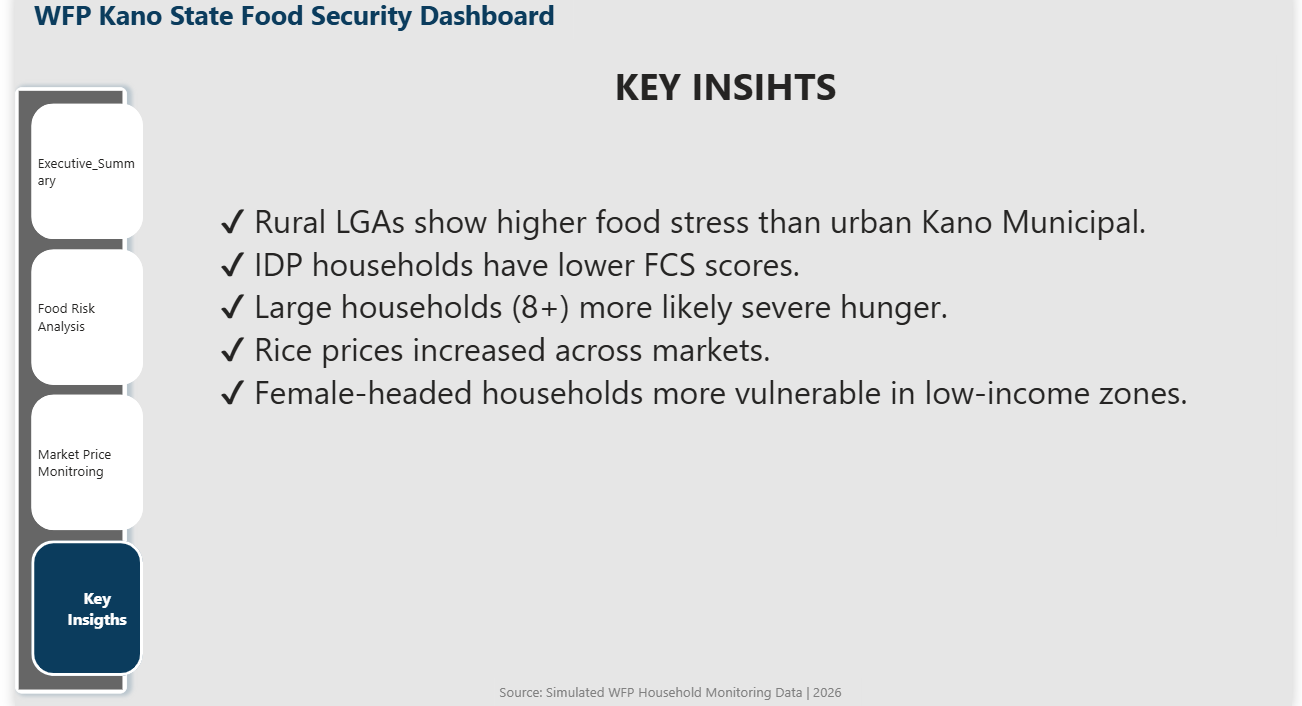

What the dashboard file says about the page in this screenshot:
{"tool":"powerbi","page":{"name":"Key Insigths","canvas":[1280,720],"ordinal":3},"visuals":[{"type":"textbox","box":[160,64,1104,560],"z":0},{"type":"textbox","box":[480,688,368,32],"z":1000},{"type":"textbox","box":[0,0,560,48],"z":2000},{"type":"shape","box":[0,96,112,608],"z":2001},{"type":"pageNavigator","box":[16,112,112,576],"z":2002}]}

Visuals, with their boxes on the page's 1280x720 design canvas (x1, y1, x2, y2). These are canvas units, not pixel positions in the 1302x706 screenshot, which may show the page scaled, cropped or inside an application window:
textbox: Rect(160, 64, 1264, 624)
textbox: Rect(480, 688, 848, 720)
textbox: Rect(0, 0, 560, 48)
shape: Rect(0, 96, 112, 704)
pageNavigator: Rect(16, 112, 128, 688)
